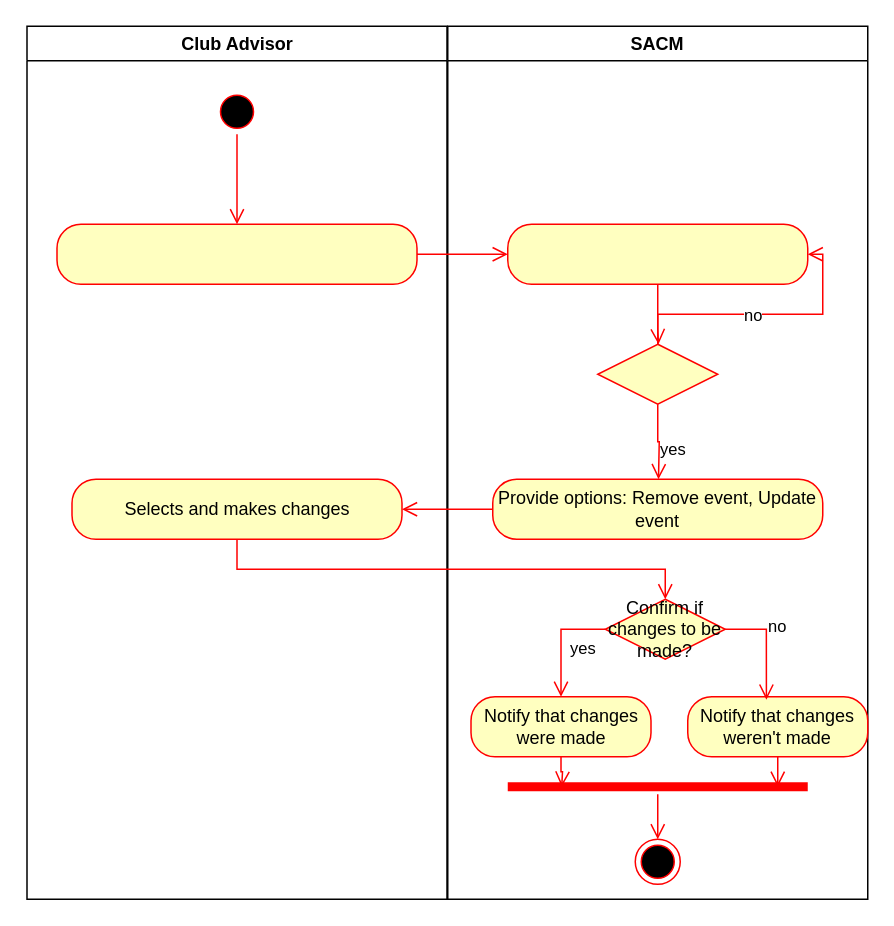
This 894x926 diagram has some shape labels left out. The centre of each missing label's shape, as x and y in pixels:
"Is the ID valid?" belongs at (x=657, y=373).
"Log in and access Manage Club" belongs at (x=236, y=253).
"Request to provide Club ID" belongs at (x=657, y=253).
